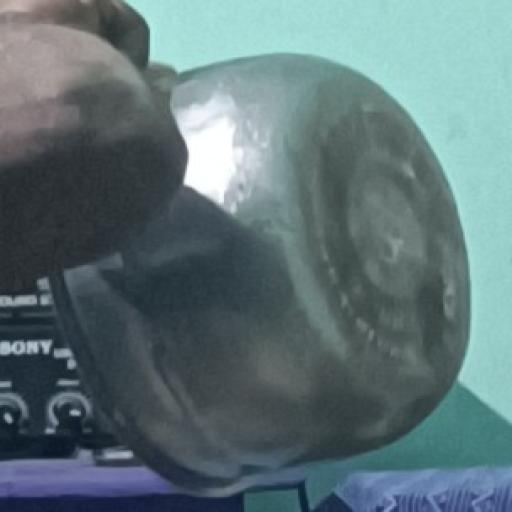vessel: (52, 54, 467, 494)
